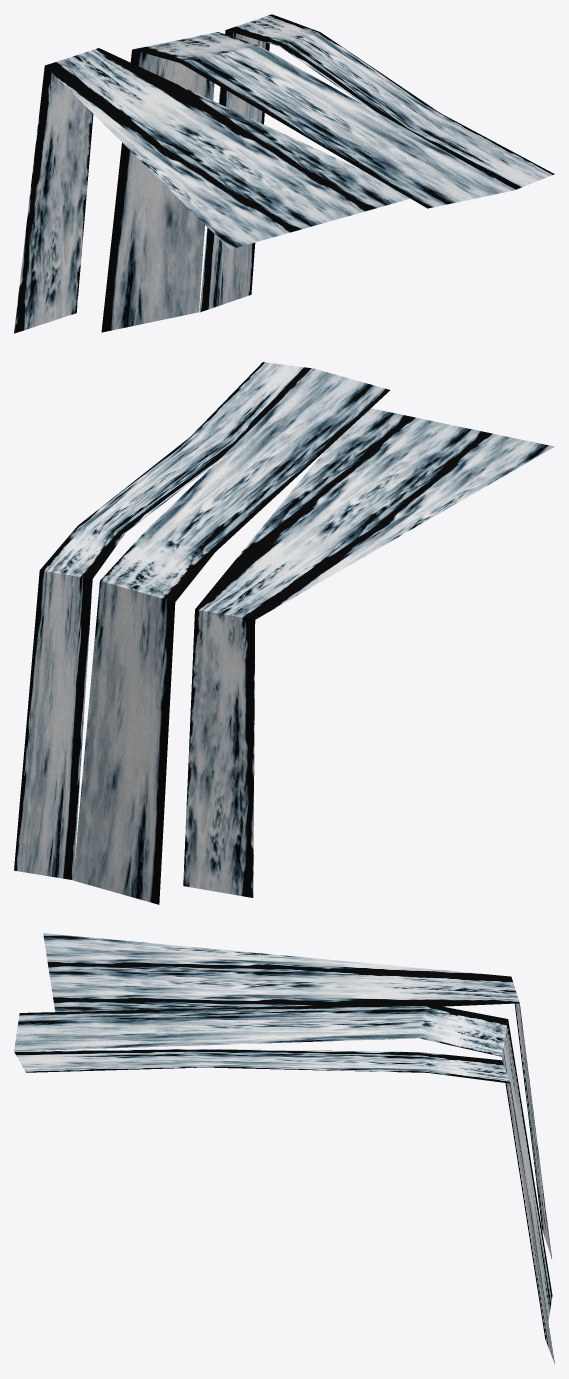
Rendered from jd_shui_4.FBX.
3 renders of one model, top to bottom at view 1: azimuth 30°, elevation 25°; view 2: azimuth 150°, elevation 25°; view 3: azimuth 270°, elevation 25°, orthographic. The views are drawn at different scales.
Visible parts, largest first — view 1: jd_shui_4; view 2: jd_shui_4; view 3: jd_shui_4.
Boxes of the visible parts, <box> form: jd_shui_4: <box>14,14,554,333</box>; jd_shui_4: <box>14,362,554,904</box>; jd_shui_4: <box>14,933,554,1363</box>.
Size of the model in its own units: 5580 by 5438 by 8837.
